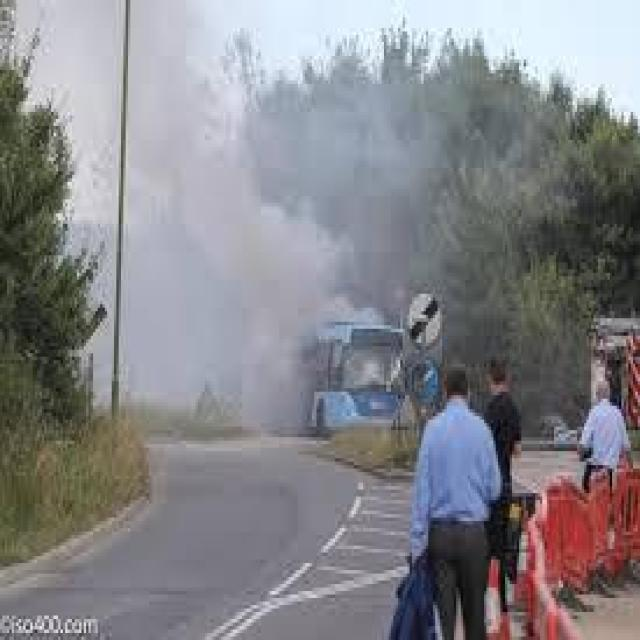smoke: (127, 90, 389, 374)
